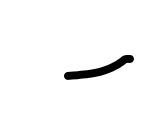minus: (65, 54, 133, 79)
